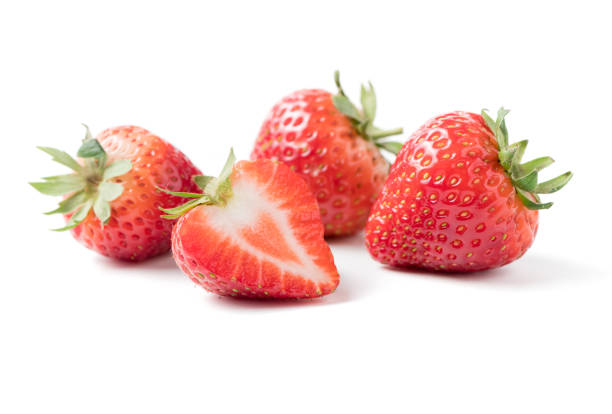Fresa: (359, 100, 547, 282), (167, 155, 347, 310), (248, 83, 401, 250), (52, 121, 218, 269)
